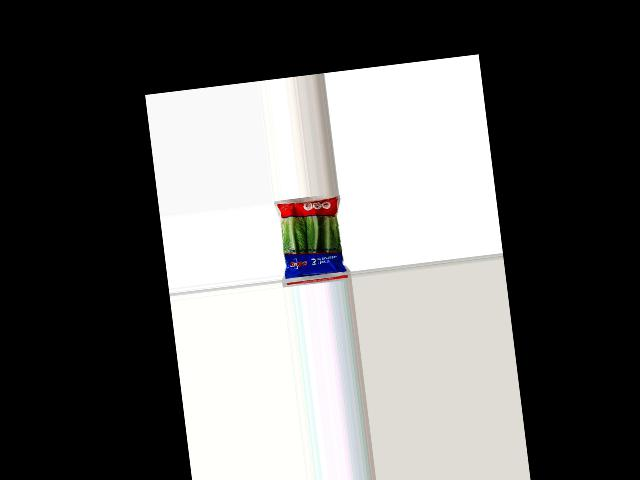lettuce: (272, 193, 347, 282)
